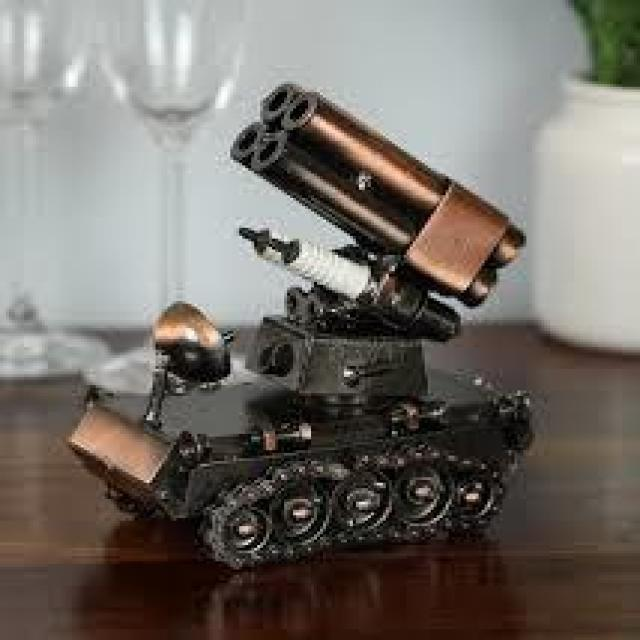MIL_MBT: (193, 437, 555, 586)
